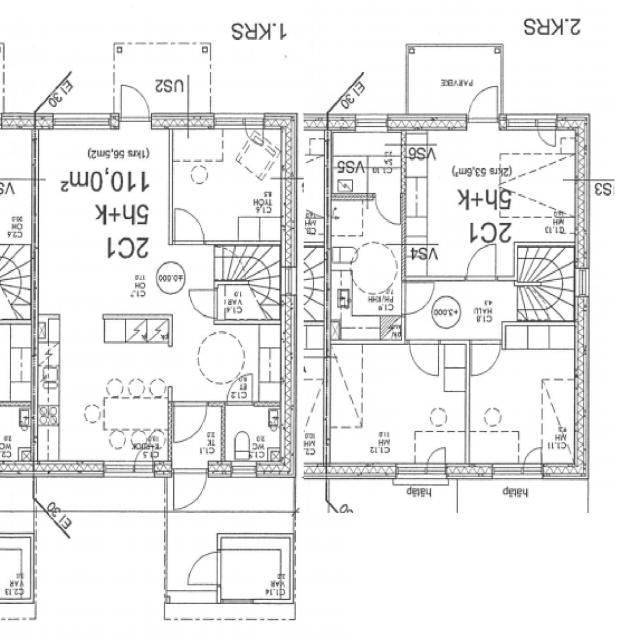door: (331, 338, 463, 468), (169, 464, 209, 512), (181, 548, 225, 591), (170, 399, 210, 446), (462, 239, 504, 283), (114, 81, 152, 127), (407, 336, 444, 383), (465, 81, 501, 129), (170, 203, 208, 246), (399, 278, 438, 319), (466, 338, 504, 380), (371, 188, 405, 229), (186, 285, 219, 321), (424, 442, 451, 475), (534, 118, 560, 151), (521, 443, 547, 475)
window: (325, 463, 397, 488), (50, 112, 114, 132), (42, 500, 70, 534), (490, 462, 535, 482), (502, 112, 542, 132), (393, 462, 431, 483), (352, 113, 390, 133), (220, 595, 272, 609), (214, 112, 251, 130)
zone: (30, 116, 178, 474), (402, 126, 580, 268), (34, 124, 174, 291), (326, 343, 468, 472), (464, 338, 581, 473), (172, 122, 283, 244), (328, 215, 404, 346), (330, 130, 404, 200), (222, 404, 288, 475), (1, 126, 37, 255), (219, 542, 289, 602), (298, 349, 328, 461), (211, 281, 280, 327), (0, 325, 34, 403), (1, 533, 34, 605), (0, 403, 34, 468)
